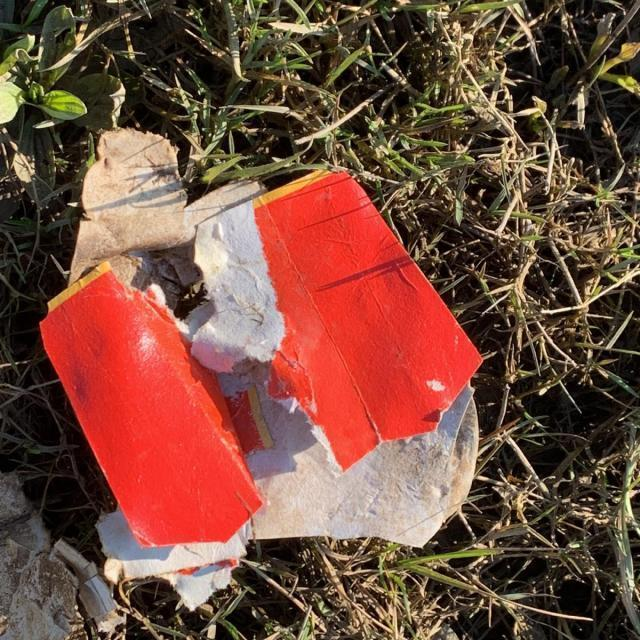Paper: (38, 121, 486, 612)
